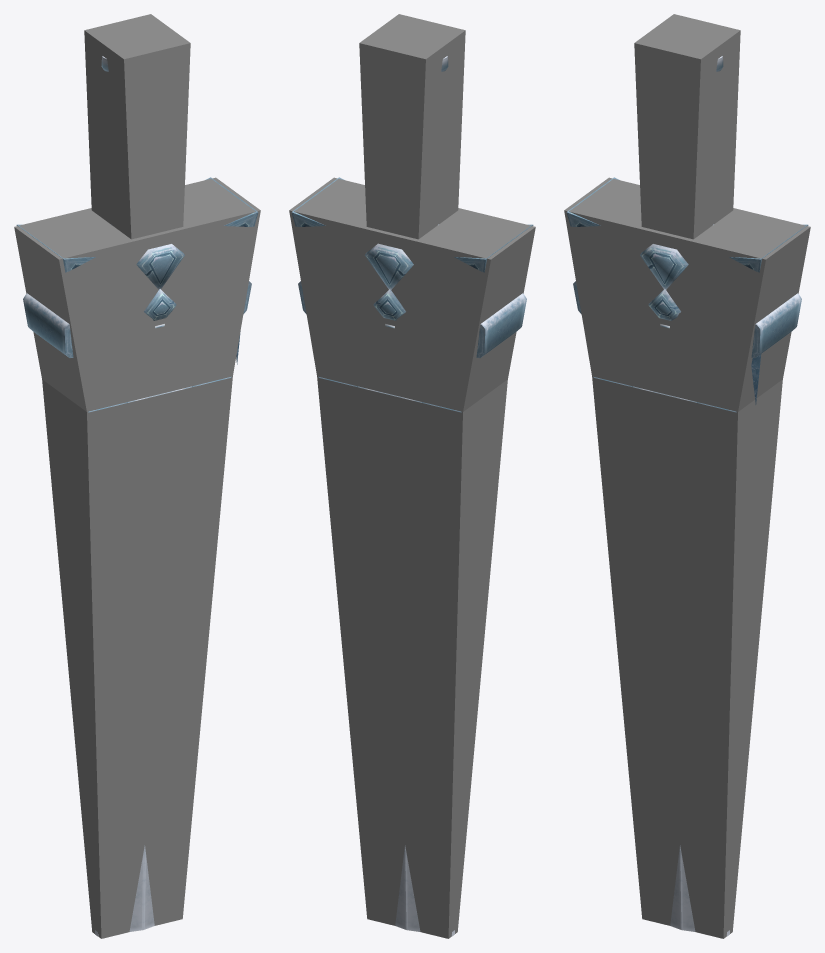
The model's file is Scene_Build_TianShan_ZhiJian_1.FBX.
3 renders of one model, left to right at view 1: azimuth 30°, elevation 25°; view 2: azimuth 150°, elevation 25°; view 3: azimuth 330°, elevation 25°, orthographic.
Visible parts, largest first — view 1: Scene_Build_TianShan_ZhiJian_1_Xzm, Scene_Build_TianShan_ZhiJian_1; view 2: Scene_Build_TianShan_ZhiJian_1_Xzm, Scene_Build_TianShan_ZhiJian_1; view 3: Scene_Build_TianShan_ZhiJian_1_Xzm, Scene_Build_TianShan_ZhiJian_1.
Part boxes in pixels (left/top/right/bottom): Scene_Build_TianShan_ZhiJian_1_Xzm: left=14, top=14, right=260, bottom=938; Scene_Build_TianShan_ZhiJian_1: left=16, top=56, right=258, bottom=936; Scene_Build_TianShan_ZhiJian_1_Xzm: left=289, top=14, right=535, bottom=938; Scene_Build_TianShan_ZhiJian_1: left=291, top=56, right=533, bottom=936; Scene_Build_TianShan_ZhiJian_1_Xzm: left=564, top=14, right=810, bottom=938; Scene_Build_TianShan_ZhiJian_1: left=566, top=56, right=808, bottom=936.
Bounding box in the file's own units: 1375 × 5785 × 611.
